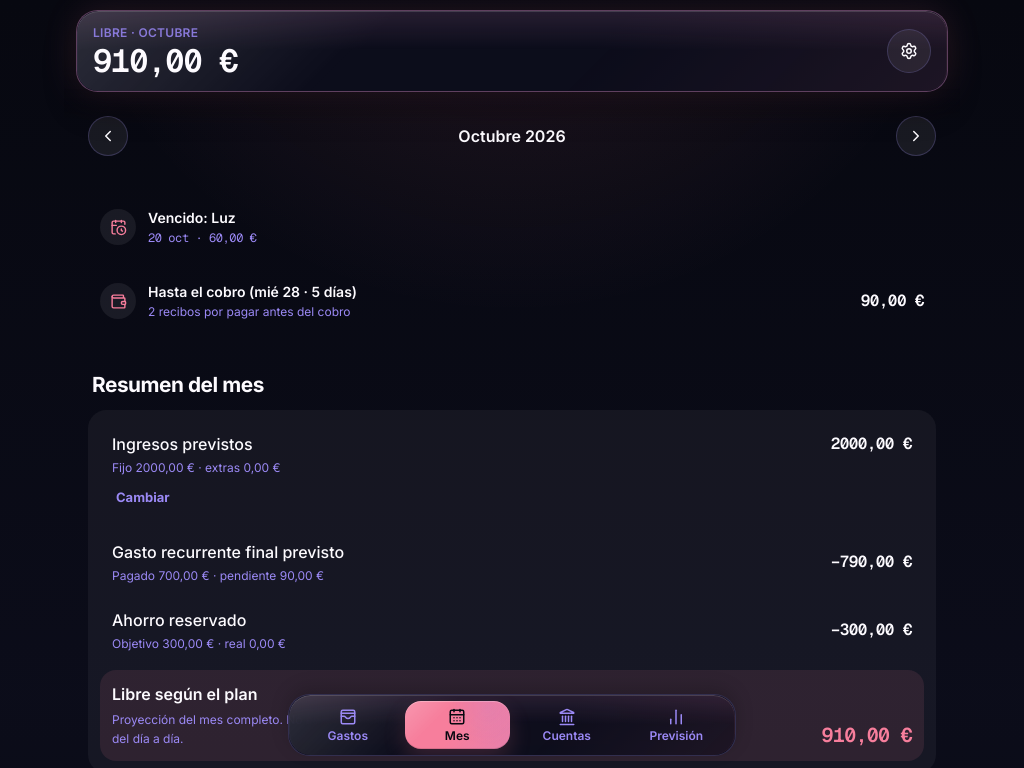
MonthDashboard › warns in a registered month's summary that its savings were not recorded
Step 1. Click the button named "Mes anterior" → [108, 136], box [88, 116, 128, 156]
(page scrolled)
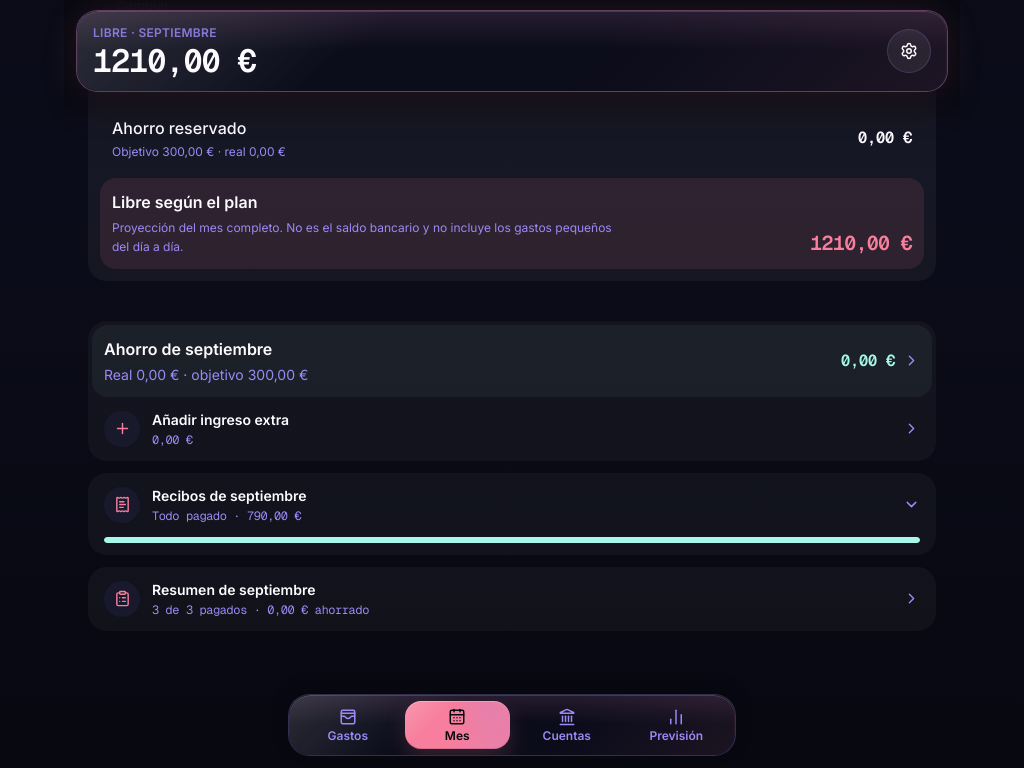
Step 2. Click the button "Resumen de septiembre 3 de 3 pagados · 0,00 € ahorrado" → [122, 599], box [92, 571, 932, 627]
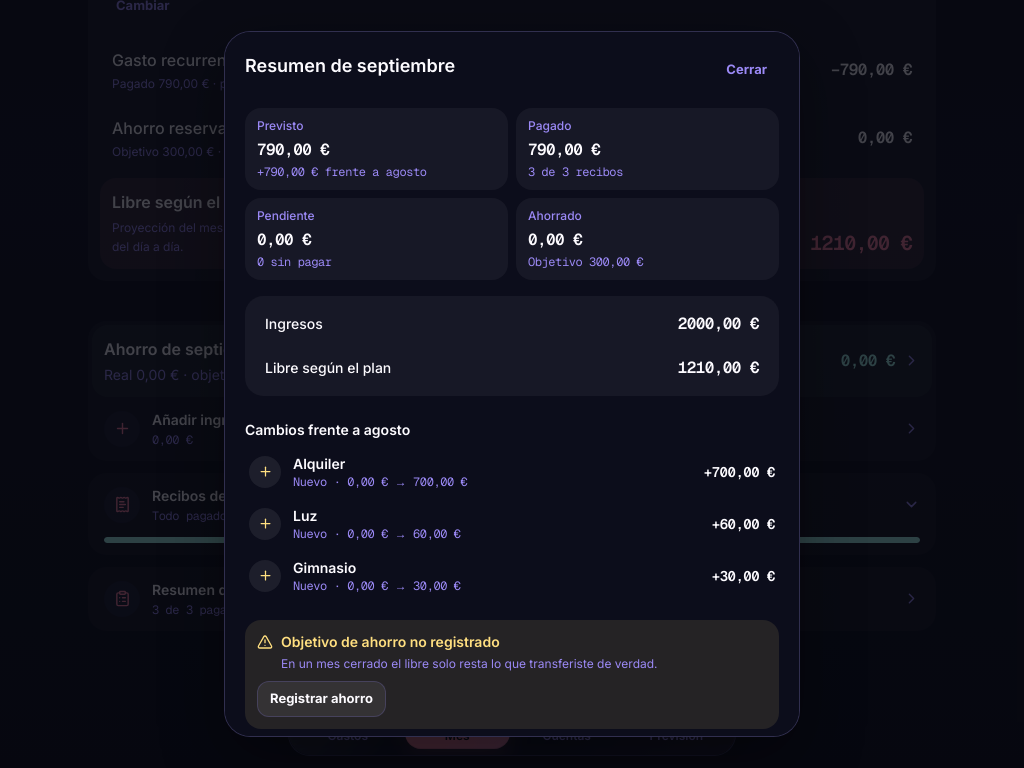
Result: the dialog "Resumen de septiembre" shows "Objetivo de ahorro no registrado" at [281, 633, 500, 650]
Step 3. Click the button "Registrar ahorro" → [321, 699], box [257, 681, 386, 717]
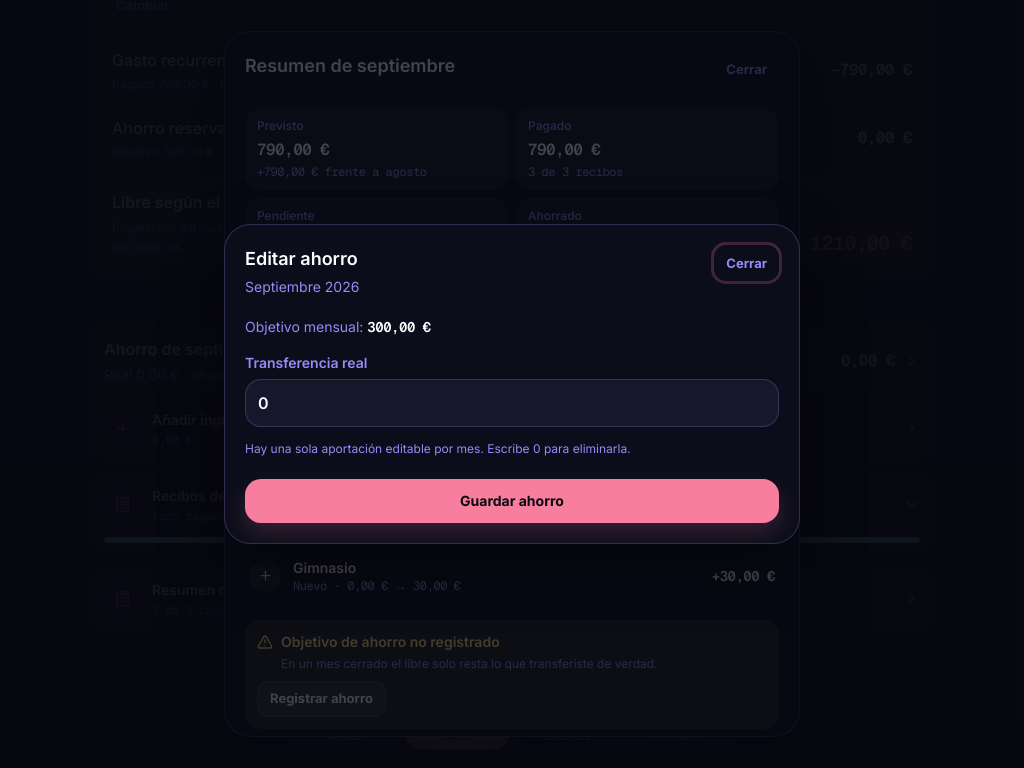
Result: the dialog "Editar ahorro" shows "septiembre 2026" at [245, 278, 359, 295]
